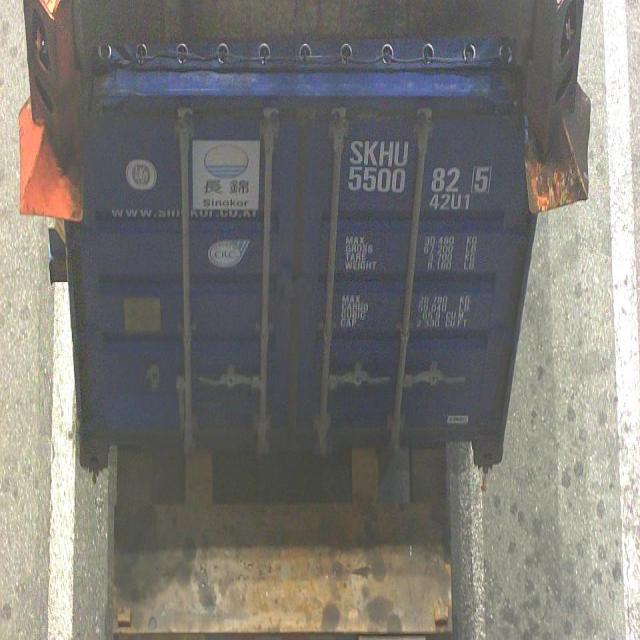ISO: (429, 190, 476, 212)
container_number: (350, 140, 491, 192)
